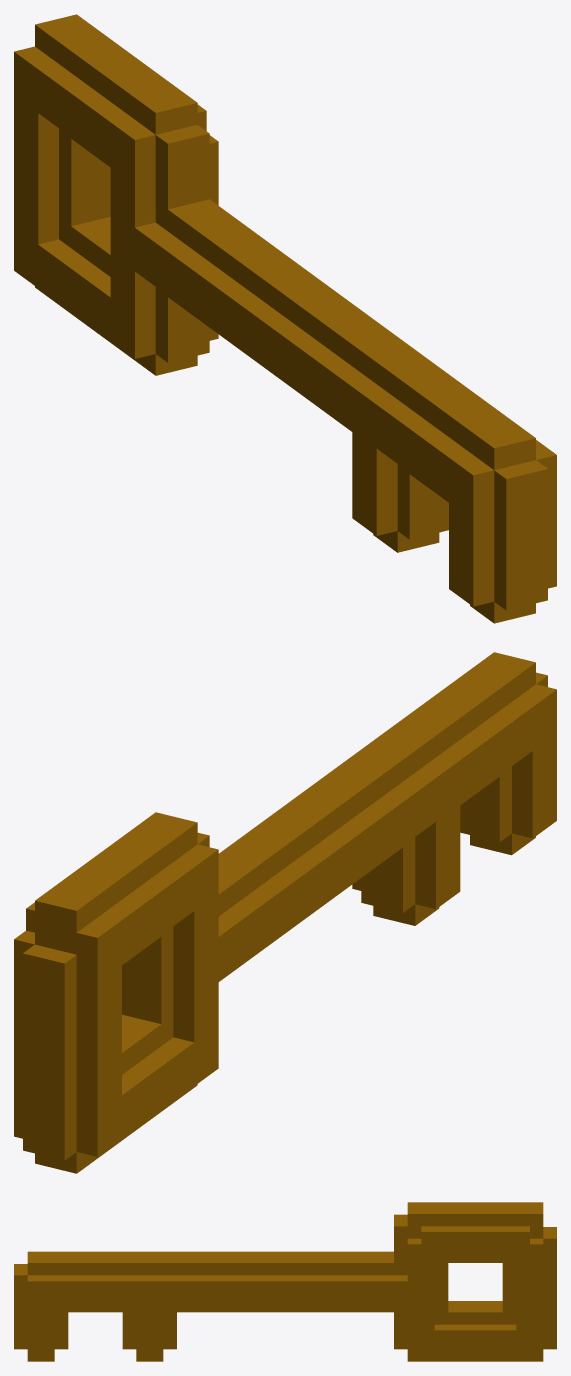
Rendered from Key.obj.
The picture shows the model from 3 angles, top to bottom: view 1: azimuth 30°, elevation 25°; view 2: azimuth 150°, elevation 25°; view 3: azimuth 270°, elevation 25°; orthographic projection. The views are drawn at different scales.
Parts seen in each view (by area): view 1: Key; view 2: Key; view 3: Key.
Part boxes in pixels (x1,y1,x2,y2): Key: [14, 14, 556, 623]; Key: [14, 652, 556, 1173]; Key: [14, 1202, 556, 1361].
Size of the model in its own units: 4 by 12 by 40.
